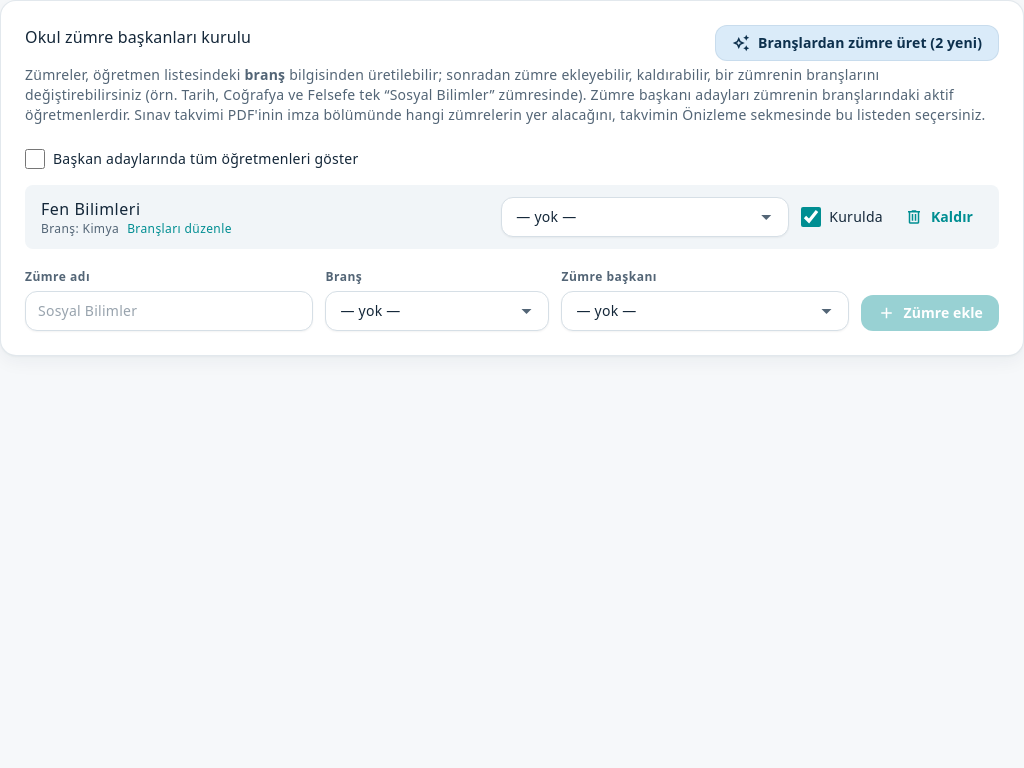
Test: ZumrelerPaneli › branş düzenleme: başka zümrenin branşı kilitli, seçim ADLARIYLA kaydedilir
Click the button with aria-label "Fen Bilimleri zümresinin branşlarını düzenle": (180, 229) [127, 221, 232, 237]
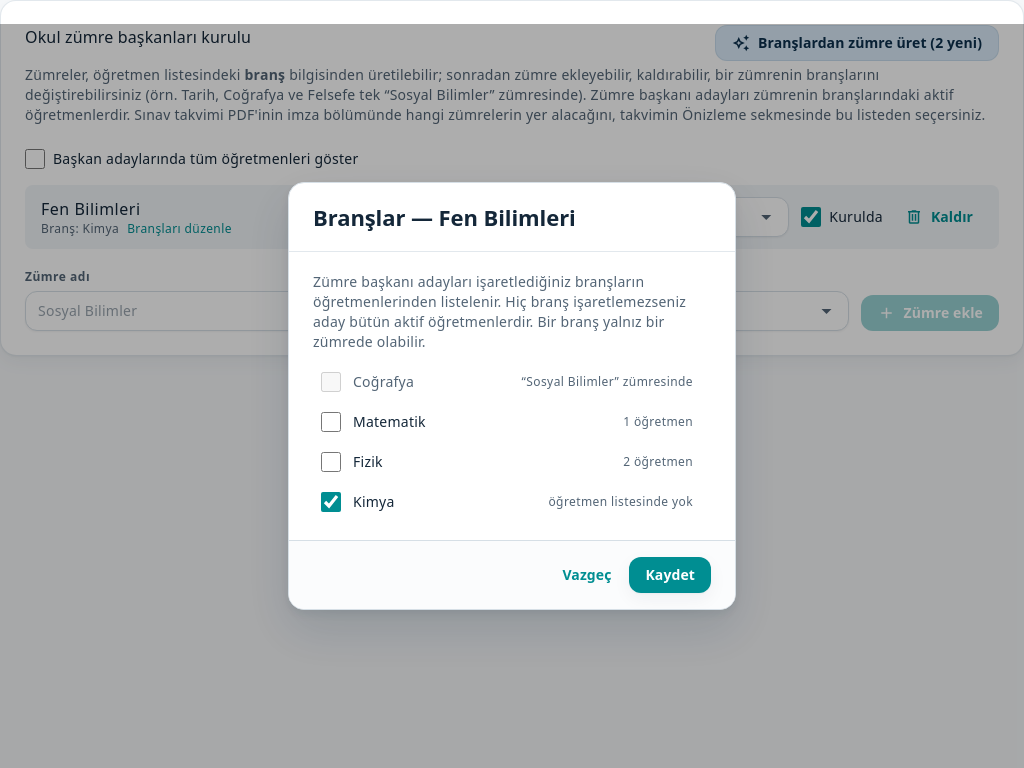
Expected: the checkbox labelled "Coğrafya “Sosyal Bilimler” zümresinde" is disabled, [321, 372, 341, 392]
Expected: the checkbox labelled "Kimya öğretmen listesinde yok" is checked, [321, 492, 341, 512]
Expected: the text "öğretmen listesinde yok" is shown, [548, 494, 693, 510]
Click the checkbox labelled "Fizik 2 öğretmen": (331, 462) [321, 452, 341, 472]
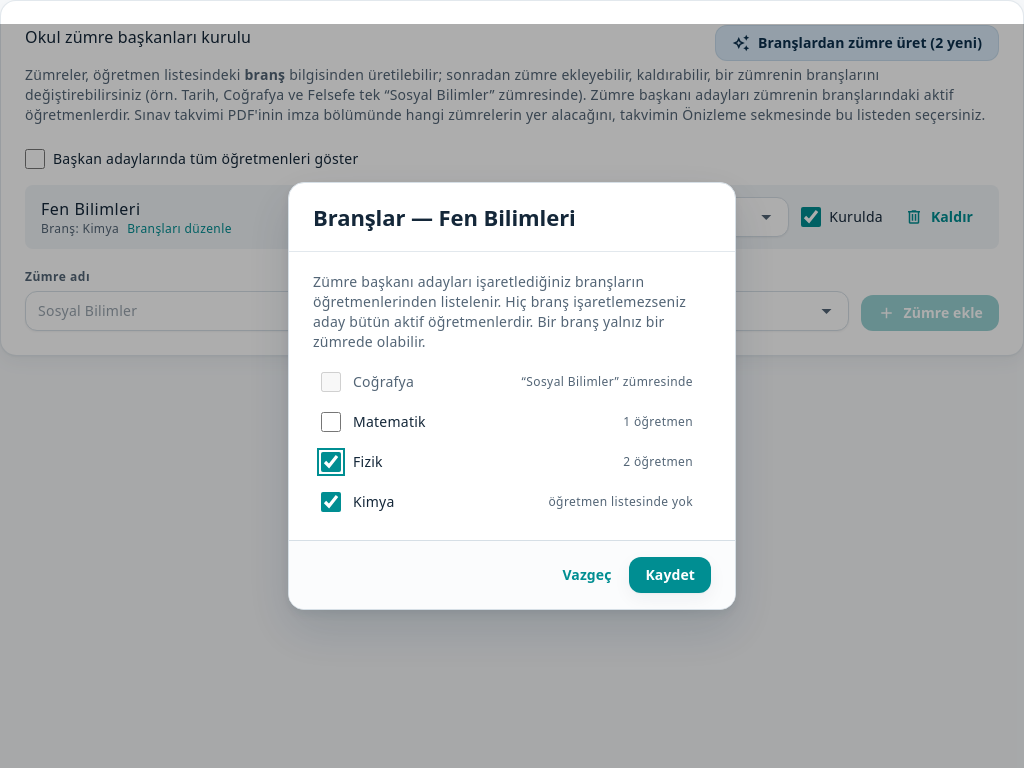
Click the button "Kaydet": (670, 575) [630, 557, 711, 593]
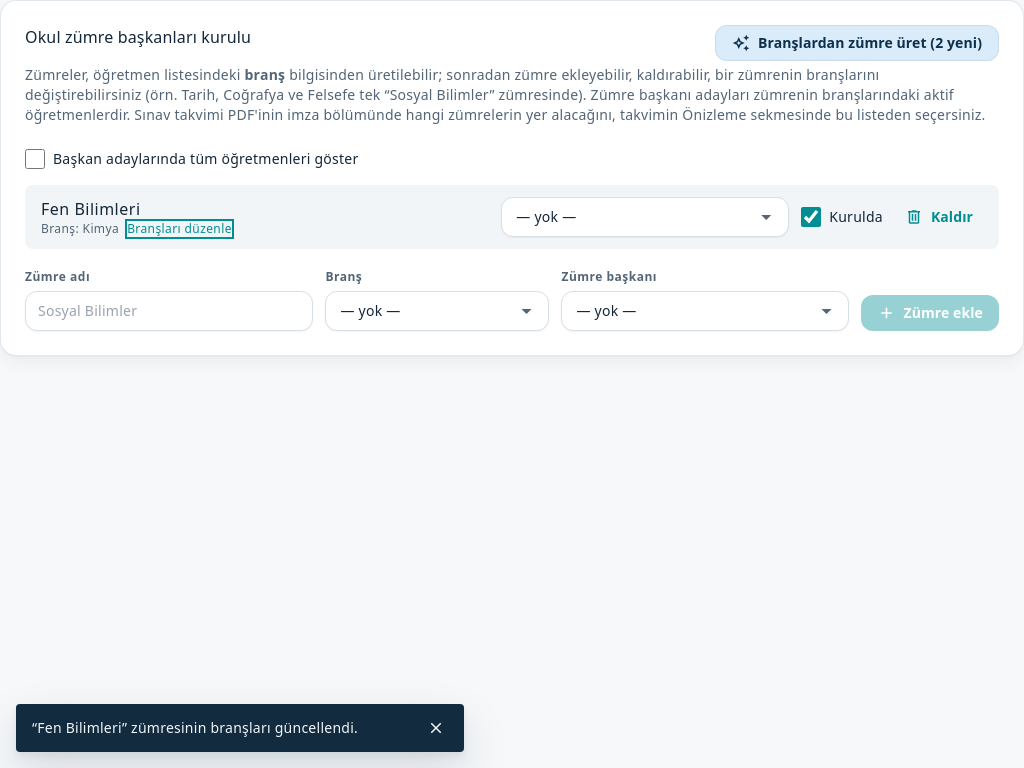
Expected: the text "“Fen Bilimleri” zümresinin branşları güncellendi." is shown, [32, 718, 358, 737]
